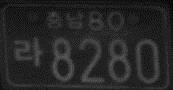0: (134, 37, 161, 85), (107, 10, 124, 32)
2: (79, 37, 106, 85)
8: (50, 35, 74, 81), (108, 38, 131, 83), (87, 10, 104, 31)
라: (13, 36, 44, 68)
충남_O: (44, 9, 83, 31)
